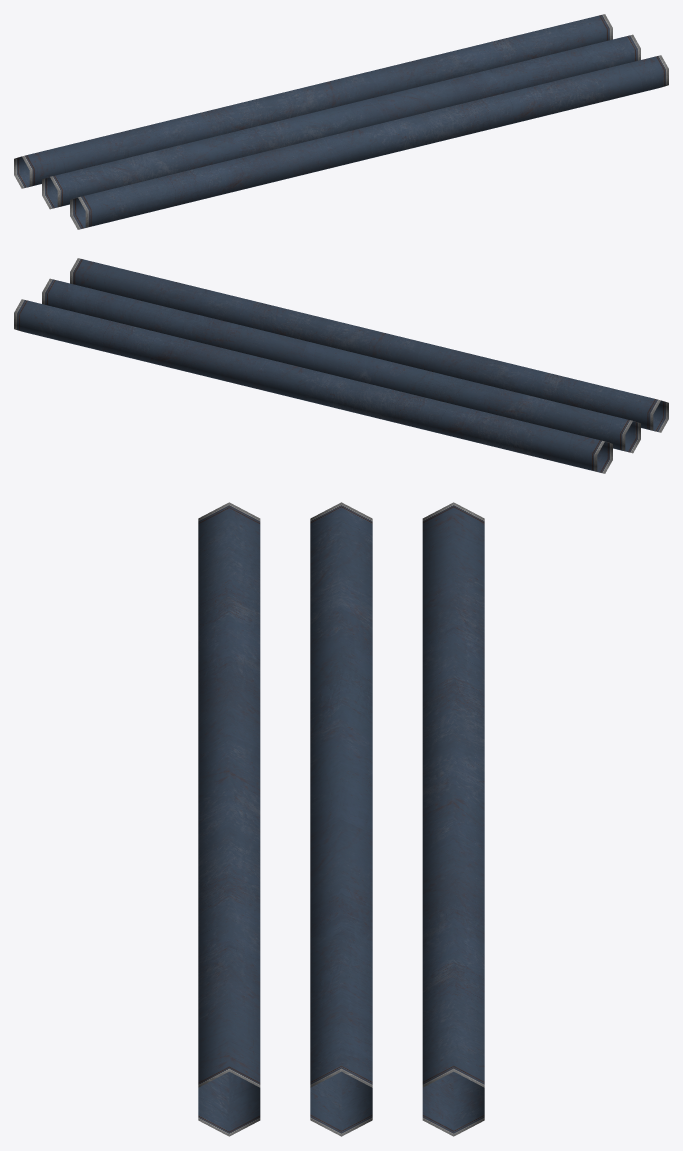
The model's file is Pipe3_A_L1.fbx.
3 views of the same model, one above another, from view 1: azimuth 30°, elevation 25°; view 2: azimuth 150°, elevation 25°; view 3: azimuth 270°, elevation 25° (orthographic). The views are drawn at different scales.
Parts seen in each view (by area): view 1: PIpe3_A_L1; view 2: PIpe3_A_L1; view 3: PIpe3_A_L1.
Part boxes in pixels (x1,y1,x2,y2): PIpe3_A_L1: (14, 14, 668, 229); PIpe3_A_L1: (14, 258, 668, 473); PIpe3_A_L1: (198, 502, 484, 1136).
Size of the model in its own units: 200 by 10.66 by 42.56.
